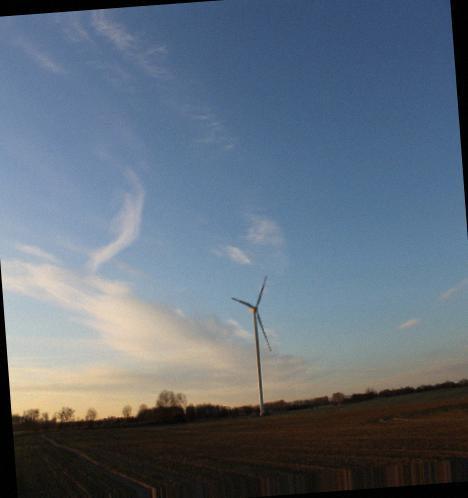wind turbine: (232, 274, 275, 414)
